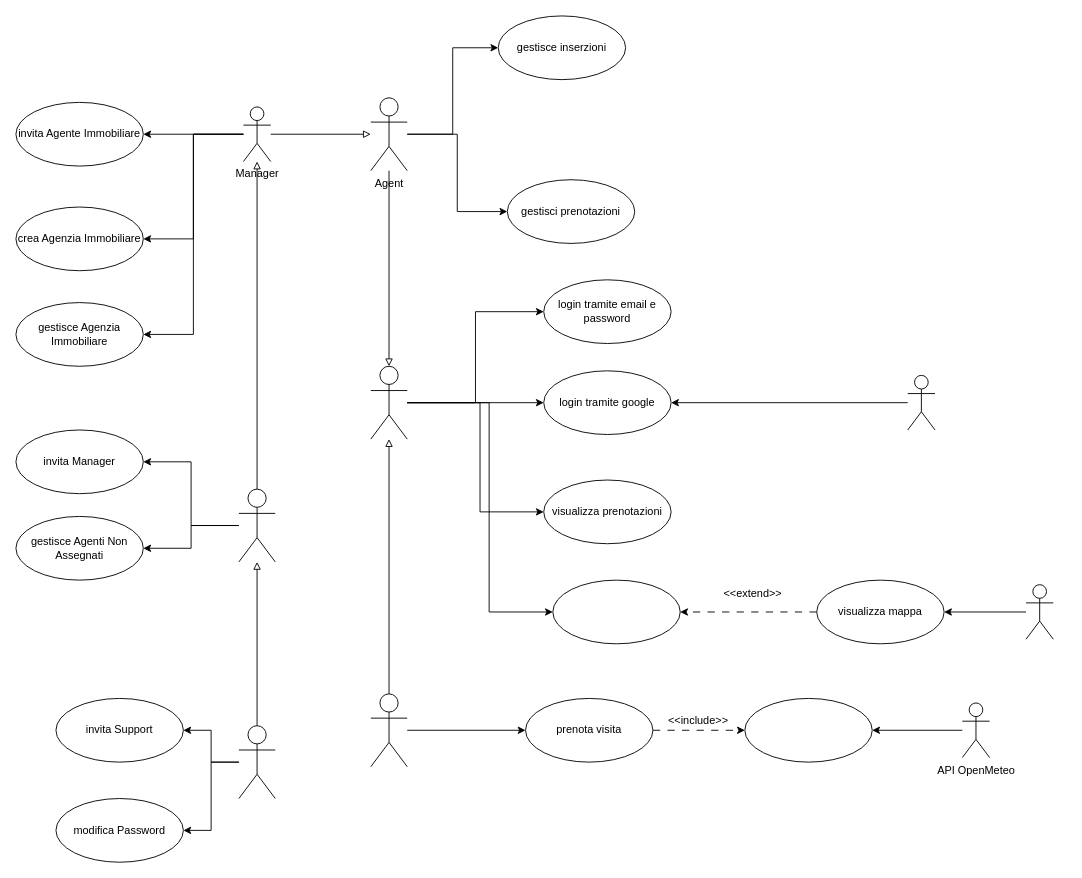
The diagram is 1082 pixels wide and 878 high, and some of its shapes have lost their labels. The shapes that lost their labels are listed below. From the top down, each one's box as (x1, y1, x2, y2) in pixels, then its label:
(370, 365, 407, 439): Utente registrato
(907, 374, 935, 430): API google
(238, 488, 275, 562): Support
(552, 579, 680, 644): ricerca avanzata
(1025, 584, 1053, 639): API Leaflat
(370, 693, 407, 767): Compratore
(744, 698, 872, 762): visualizza meteo
(238, 725, 275, 799): Admin
